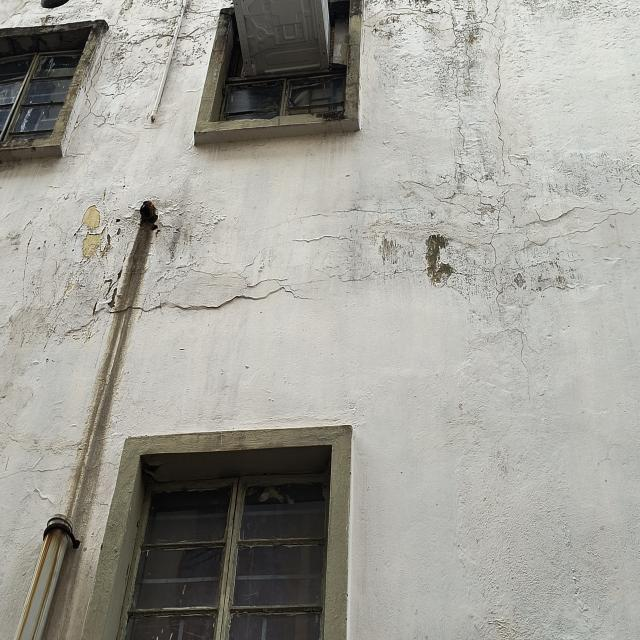crack: (269, 0, 640, 414)
